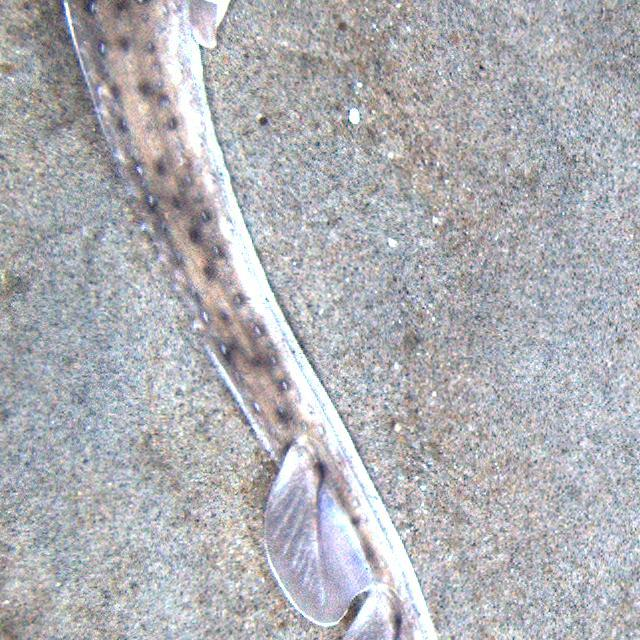skate: (56, 0, 447, 640)
